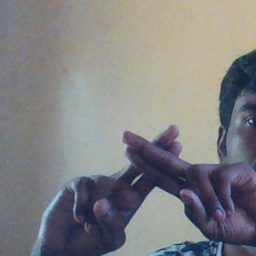F: (83, 119, 228, 237)
